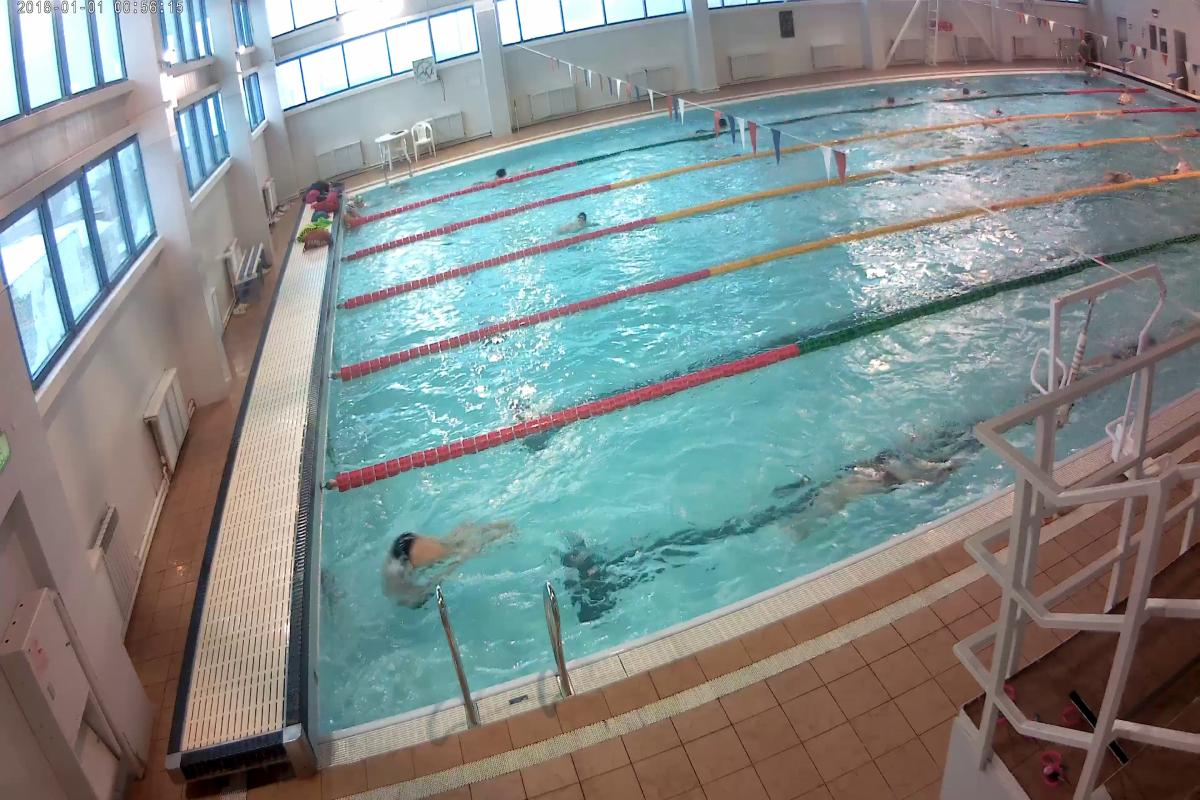swimmer: (377, 506, 512, 608), (792, 443, 943, 520), (549, 209, 599, 239), (1110, 84, 1142, 107), (1103, 167, 1135, 184)
